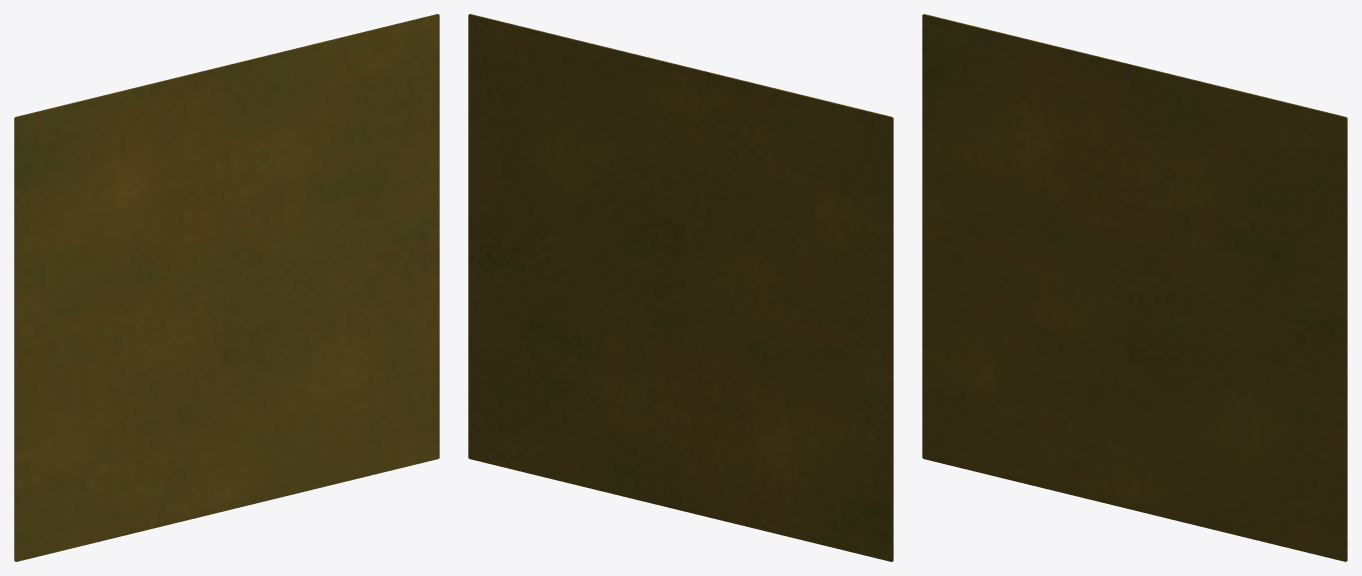
Rendered from blocks-dirt-40m.obj.
The picture shows the model from 3 angles, left to right: view 1: azimuth 30°, elevation 25°; view 2: azimuth 150°, elevation 25°; view 3: azimuth 330°, elevation 25°; orthographic projection.
Visible parts, largest first — view 1: blocks-dirt-40m_Plane.061; view 2: blocks-dirt-40m_Plane.061; view 3: blocks-dirt-40m_Plane.061.
Part boxes in pixels (x1,y1,x2,y2): blocks-dirt-40m_Plane.061: [14, 14, 439, 561]; blocks-dirt-40m_Plane.061: [468, 14, 893, 561]; blocks-dirt-40m_Plane.061: [922, 14, 1347, 561].
Bounding box in the file's own units: 40 × 40 × 0.15.
